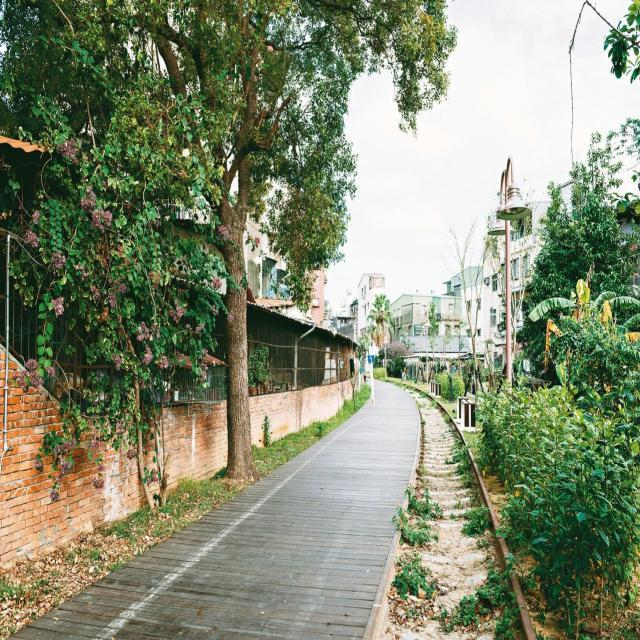rail: (354, 377, 554, 640)
